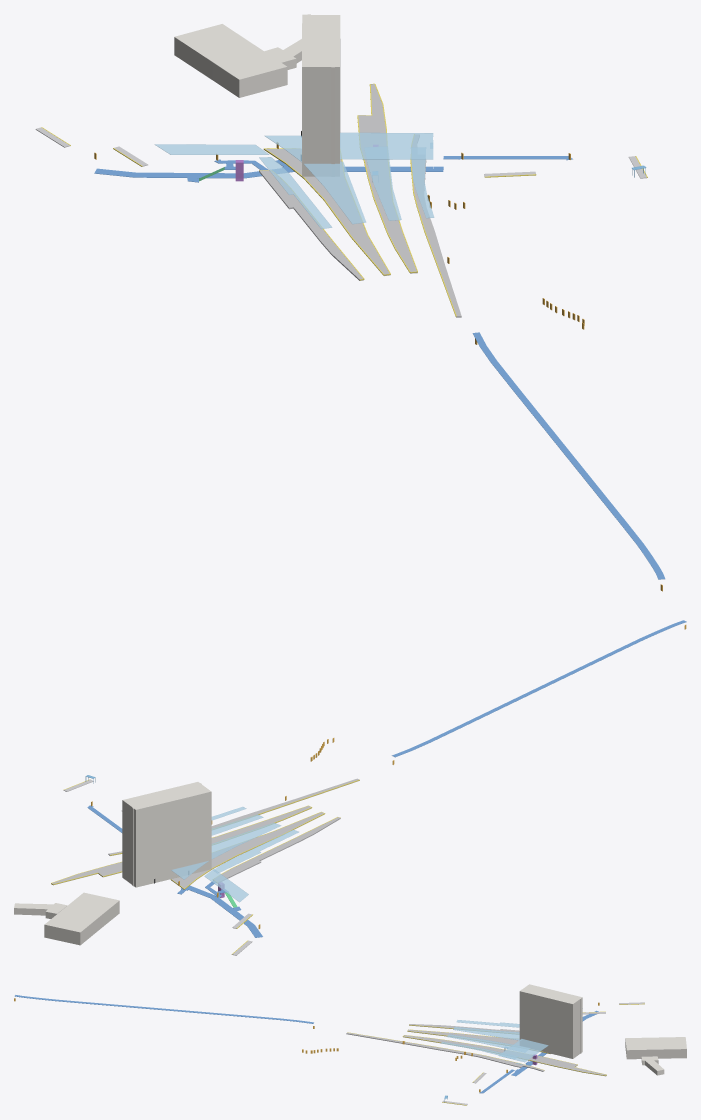
Rendered from 8508054-worblaufen.glb.
The picture shows the model from 3 angles, top to bottom: view 1: azimuth 30°, elevation 25°; view 2: azimuth 150°, elevation 25°; view 3: azimuth 270°, elevation 25°; orthographic projection. The views are drawn at different scales.
Parts seen in each view (by area): view 1: building_part@x, roof@0, platform_surface@0, passage@1, boarding_edge@0, passage@-1; view 2: building_part@x, platform_surface@0, roof@0, boarding_edge@0, passage@1, passage@-1; view 3: building_part@x, platform_surface@0, roof@0, boarding_edge@0, passage@1.
Part boxes in pixels (<box>): building_part@x: <box>174,14,340,176</box>; roof@0: <box>154,132,434,228</box>; platform_surface@0: <box>259,84,461,317</box>; passage@1: <box>472,332,665,579</box>; boarding_edge@0: <box>41,83,647,316</box>; passage@-1: <box>94,160,443,182</box>; building_part@x: <box>14,782,211,945</box>; platform_surface@0: <box>52,778,359,889</box>; roof@0: <box>171,806,298,902</box>; boarding_edge@0: <box>51,779,359,954</box>; passage@1: <box>392,620,686,757</box>; passage@-1: <box>177,885,262,937</box>; building_part@x: <box>519,984,686,1075</box>; platform_surface@0: <box>346,1024,606,1076</box>; roof@0: <box>441,1008,582,1064</box>; boarding_edge@0: <box>347,1003,644,1105</box>; passage@1: <box>14,995,313,1023</box>.
Bounding box in the file's own units: 172 × 46.62 × 467.
